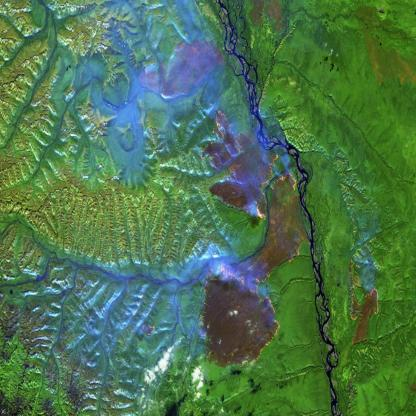fire: (192, 100, 318, 374), (341, 282, 388, 325), (133, 309, 163, 343)
